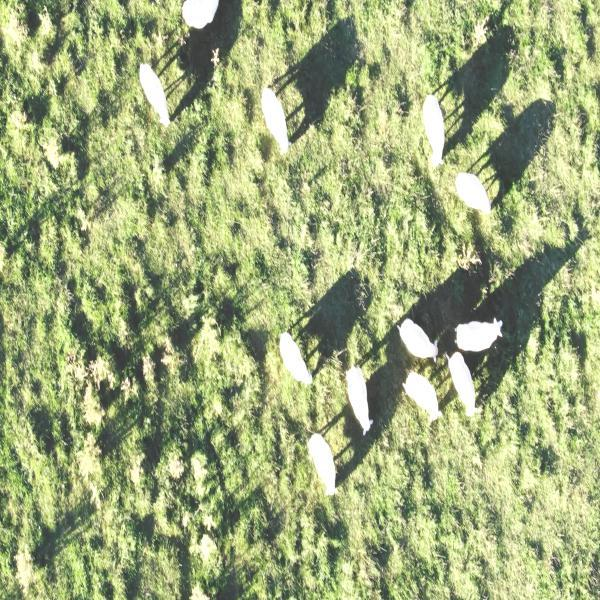sheep: (132, 59, 174, 131), (259, 81, 296, 158), (419, 89, 450, 173), (303, 428, 339, 500), (443, 348, 478, 421), (342, 360, 374, 439), (274, 327, 313, 390), (401, 369, 443, 426), (397, 315, 441, 365), (455, 314, 504, 354), (452, 168, 491, 218), (177, 1, 224, 35), (592, 328, 599, 403)
